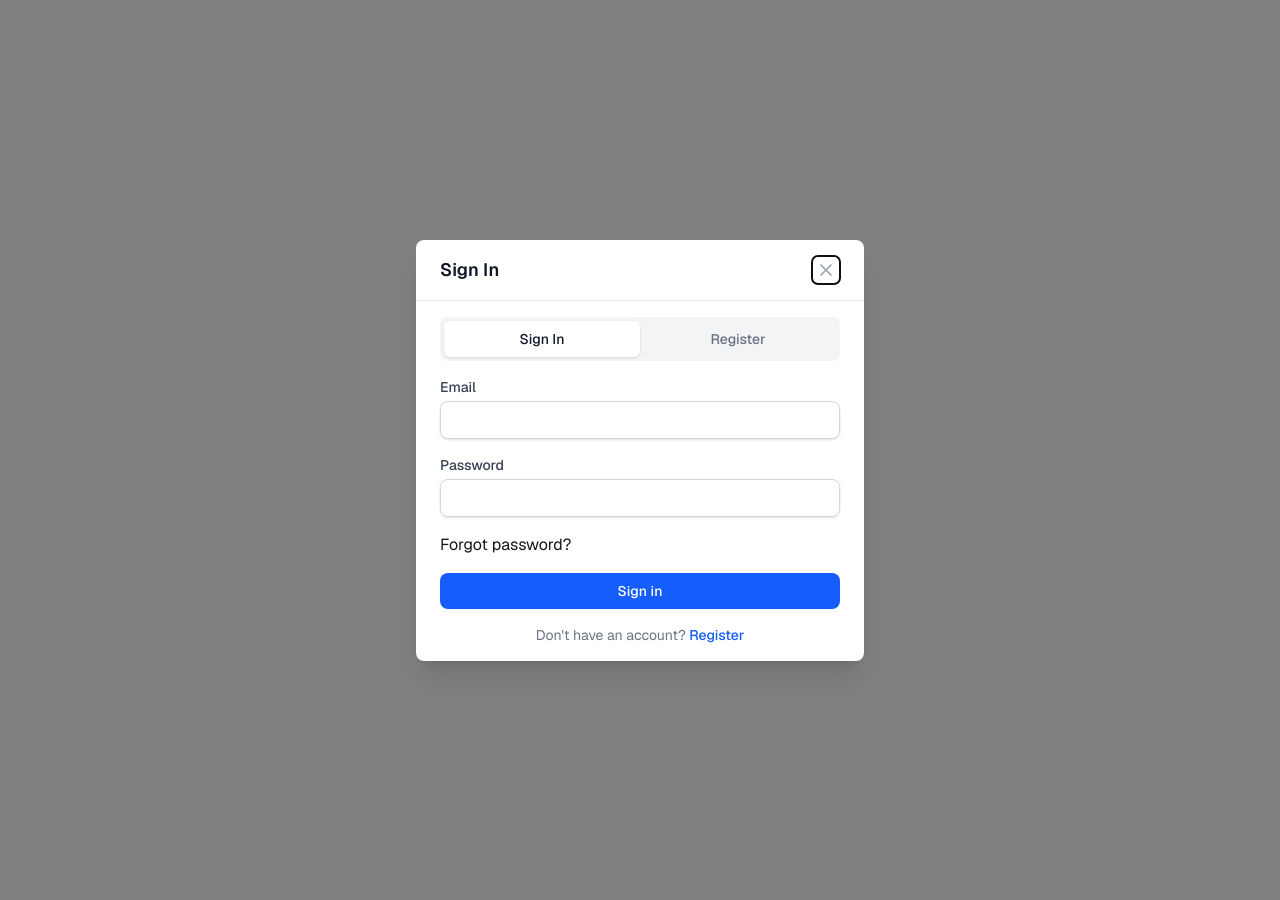
it: AuthModal › switches between tabs
This screenshot has width=1280, height=900.
Check: the field labelled "Full Name" is not shown
// Switch to register
Click the tab "Register": [738, 338] box [640,320,836,356]
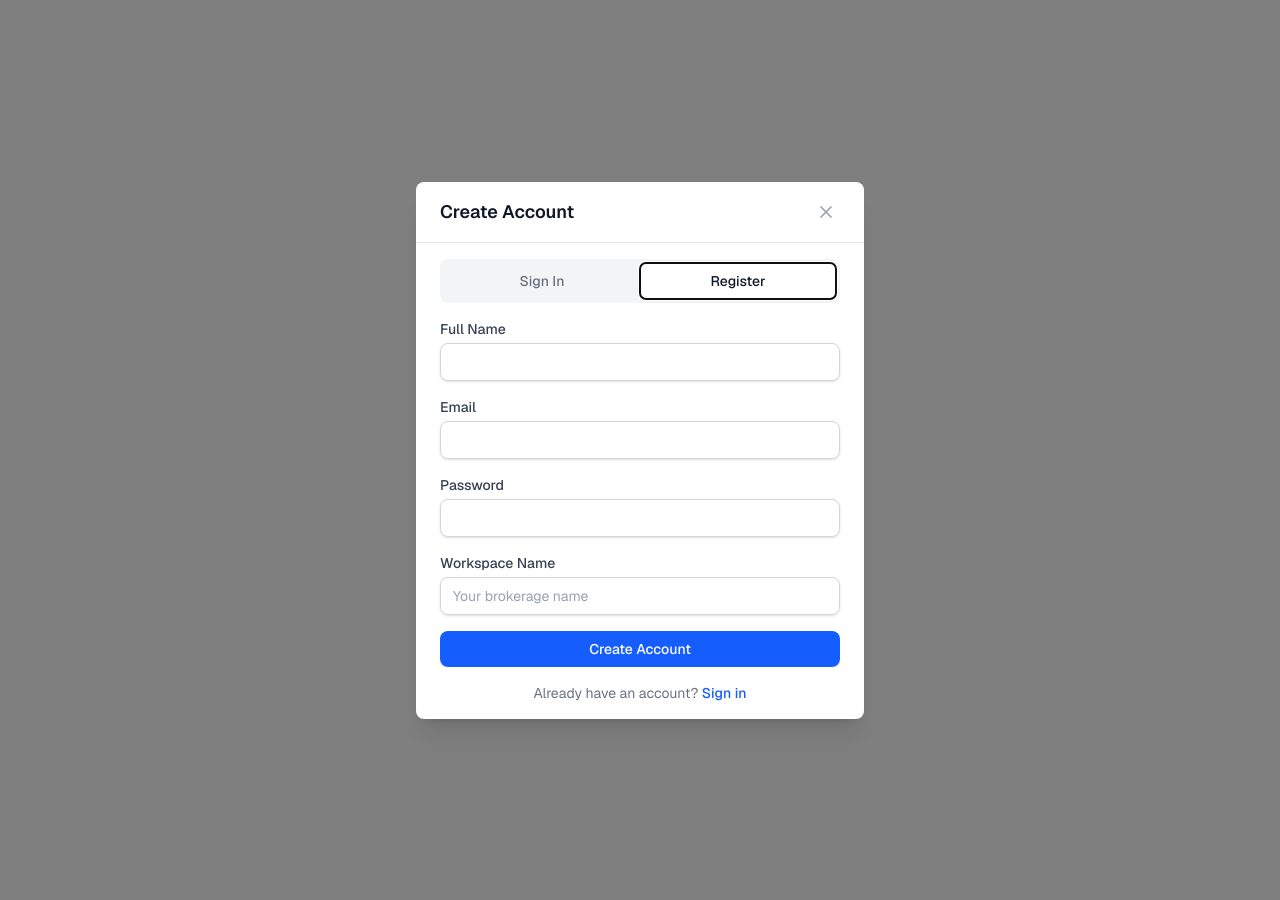
Check: the field labelled "Full Name" is shown, box [440,342,840,380]
